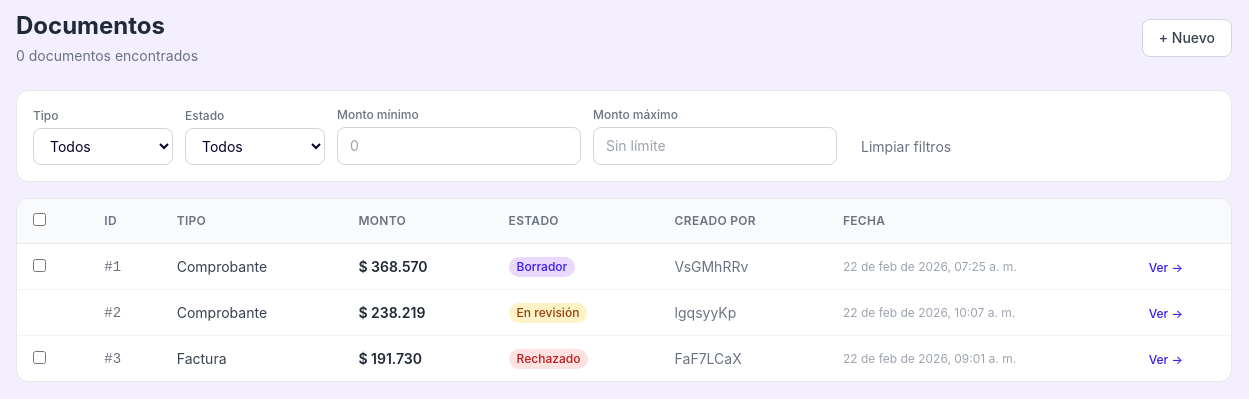
DocumentsPage › selection and batch › toggleAll selects all selectable documents
The width and height of the screenshot is (1249, 399).
Step 1. Click the checkbox named "Seleccionar borradores y rechazados" → (40, 220), box [33,213,46,226]
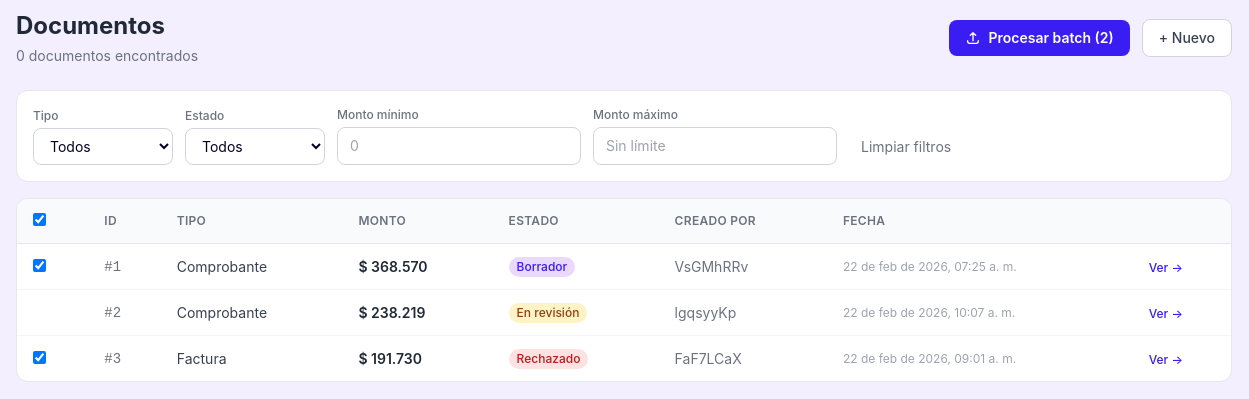
Expected: the button "Procesar batch (2)" is shown, [948,20,1130,56]
